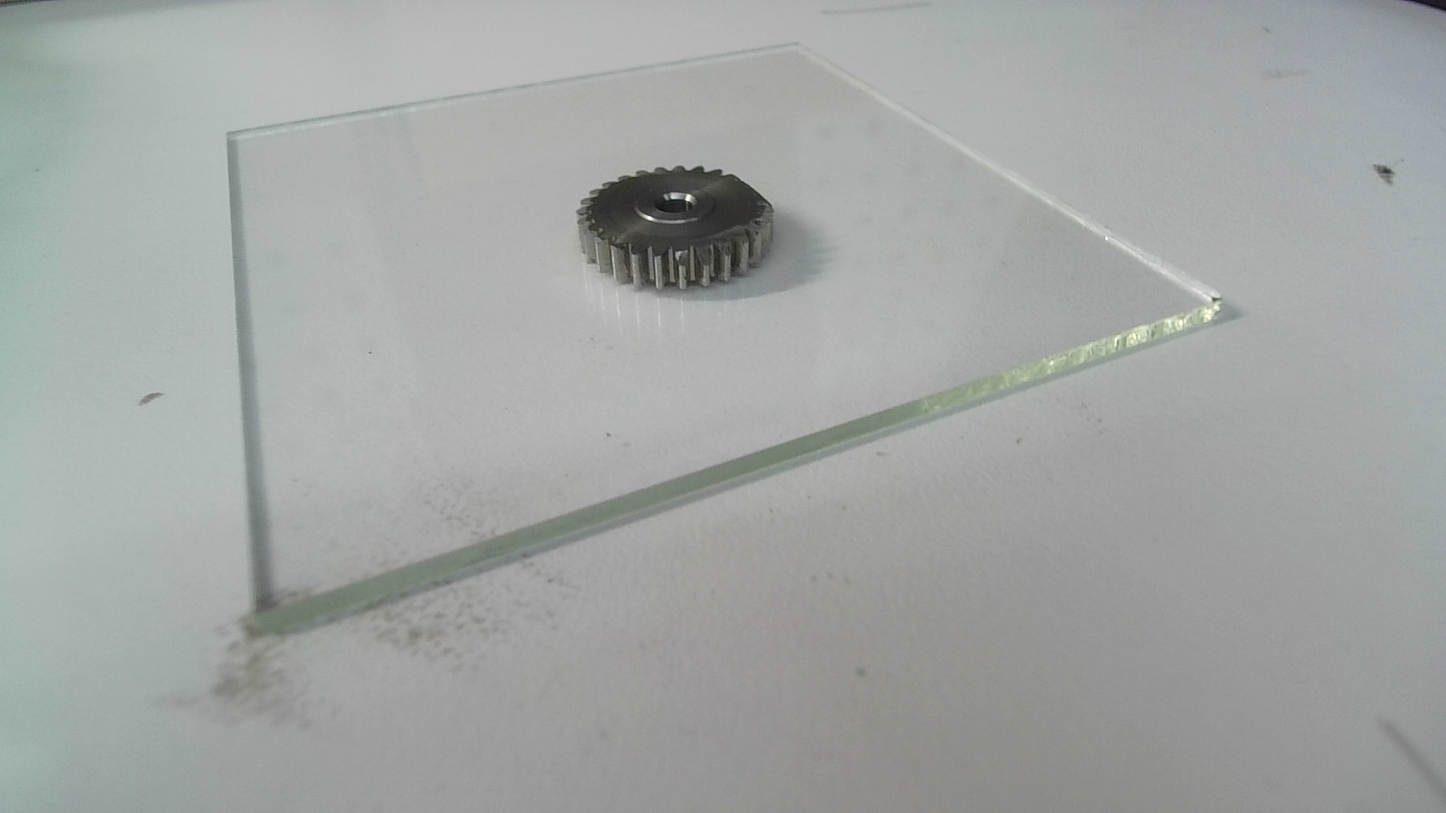gear: (574, 163, 776, 293)
